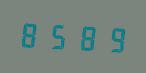eight: (18, 17, 44, 51), (72, 20, 98, 54)
five: (45, 18, 71, 52)
nine: (99, 21, 125, 55)
